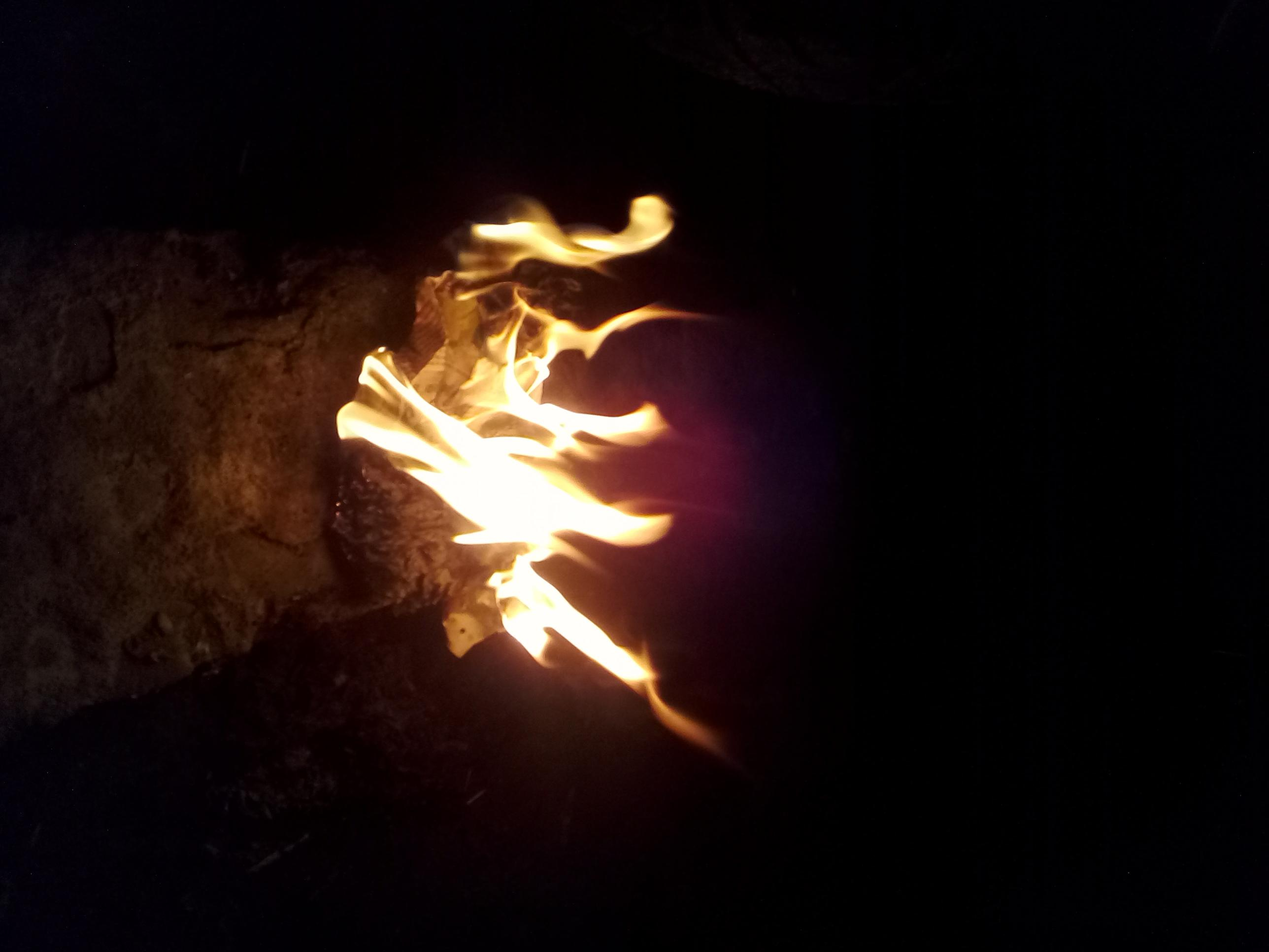fire: (397, 417, 994, 699), (261, 447, 372, 605)
